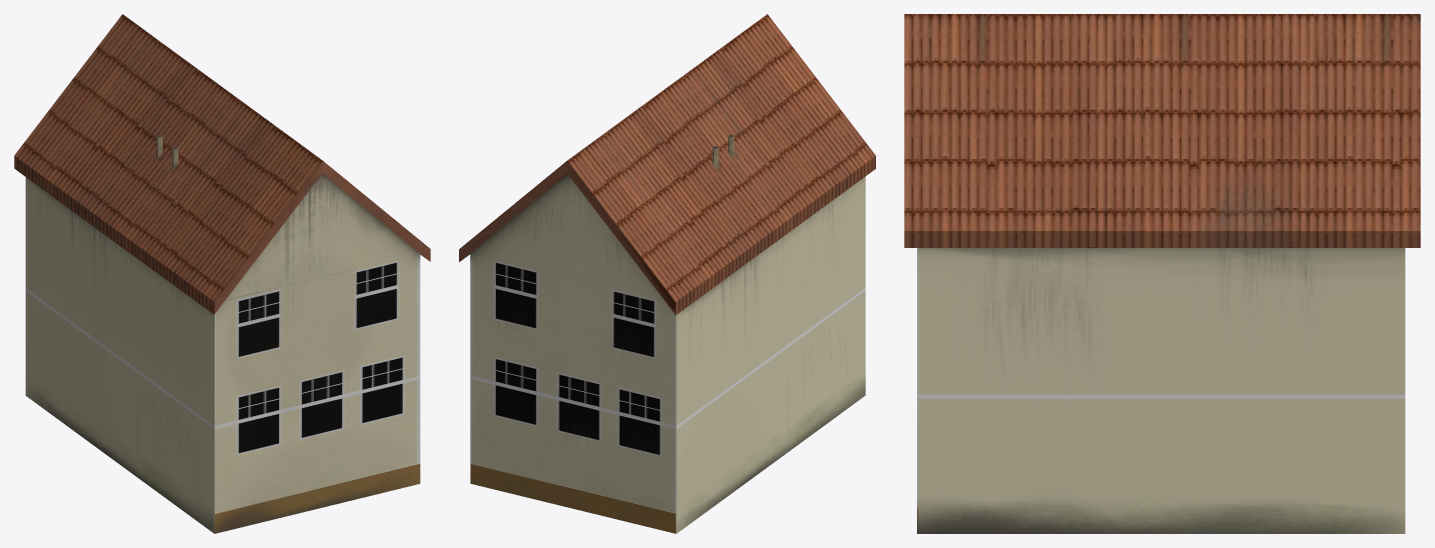
Rendered from DreamcoreHouse.fbx.
3 views of the same model, side by side, from view 1: azimuth 30°, elevation 25°; view 2: azimuth 150°, elevation 25°; view 3: azimuth 270°, elevation 25° (orthographic). The views are drawn at different scales.
Visible parts, largest first — view 1: FakeHouse; view 2: FakeHouse; view 3: FakeHouse.
Part boxes in pixels (bbox=[...]): FakeHouse: bbox=[14, 14, 430, 533]; FakeHouse: bbox=[459, 14, 875, 533]; FakeHouse: bbox=[904, 14, 1420, 533].
Bounding box in the file's own units: 607 × 944 × 970.
